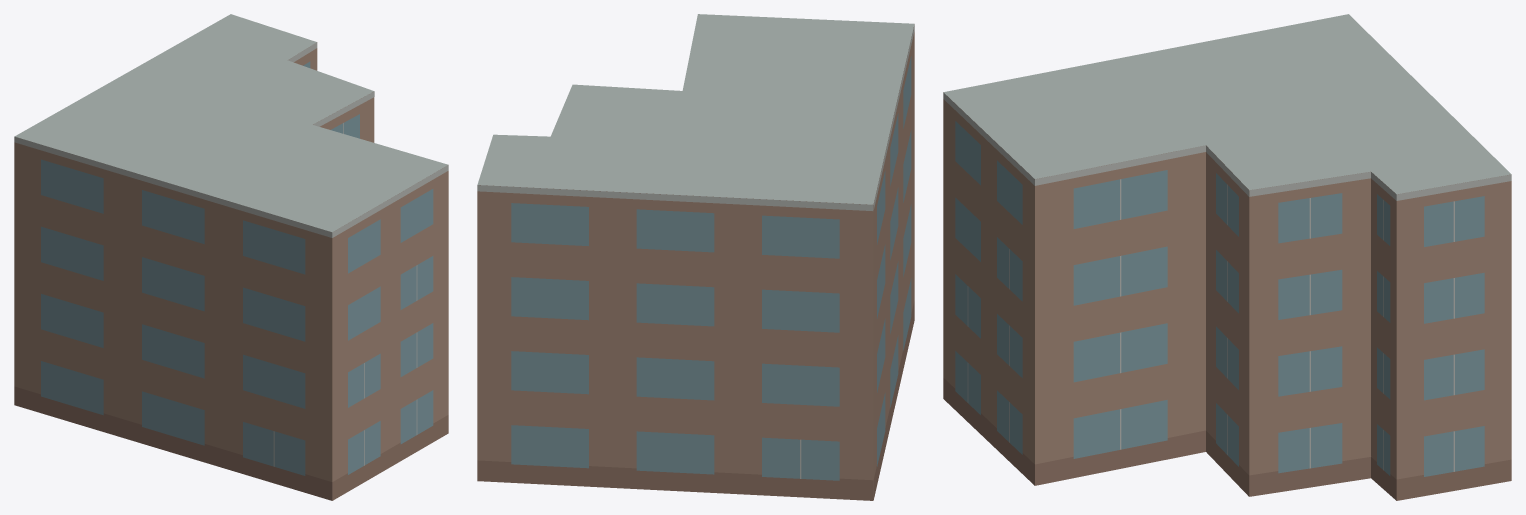
Rendered from survey-upis-32852055.glb.
The picture shows the model from 3 angles, left to right: view 1: azimuth 30°, elevation 25°; view 2: azimuth 150°, elevation 25°; view 3: azimuth 270°, elevation 25°; orthographic projection. The views are drawn at different scales.
Visible parts, largest first — view 1: survey-upis-32852055.tmp; view 2: survey-upis-32852055.tmp; view 3: survey-upis-32852055.tmp.
Part boxes in pixels (x1,y1,x2,y2): survey-upis-32852055.tmp: (14, 14, 448, 500); survey-upis-32852055.tmp: (477, 14, 914, 500); survey-upis-32852055.tmp: (943, 14, 1511, 500).
Size of the model in its own units: 14.2 by 11.25 by 18.91.
